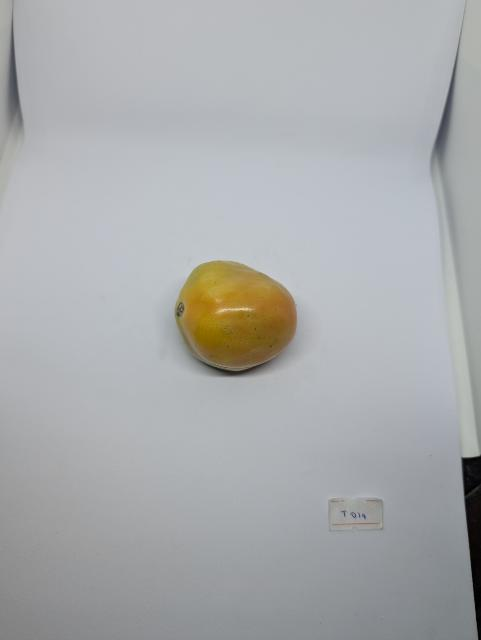breaker: (175, 261, 297, 371)
